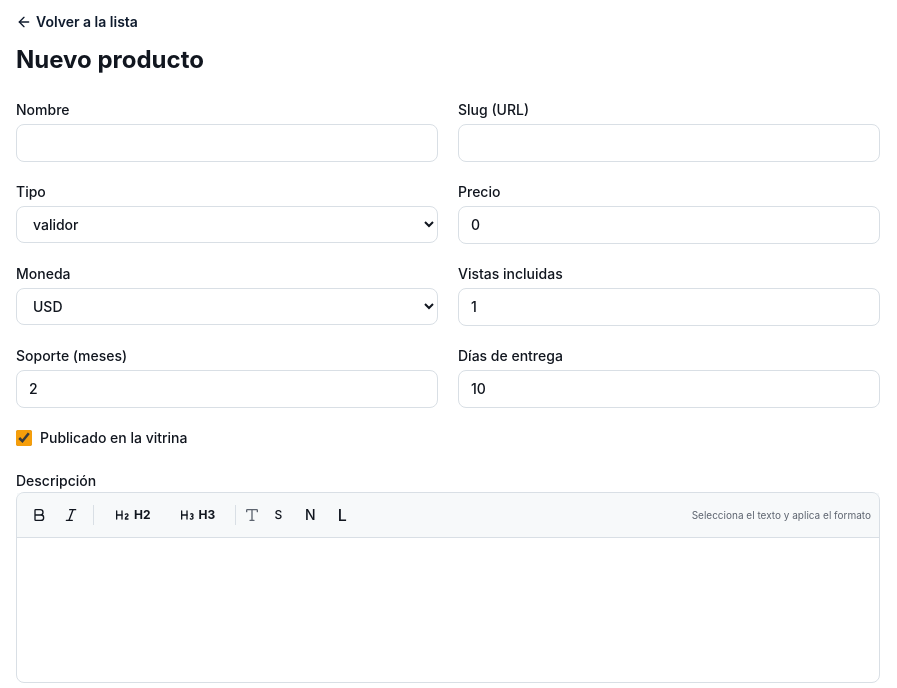
it: Formulario de producto › al crear, el slug se genera desde el nombre al salir del campo
The image size is (897, 688).
Step 1. Type "Mi Paquete increíble" into the field labelled "Nombre" → (227, 143), box [16, 124, 438, 162]
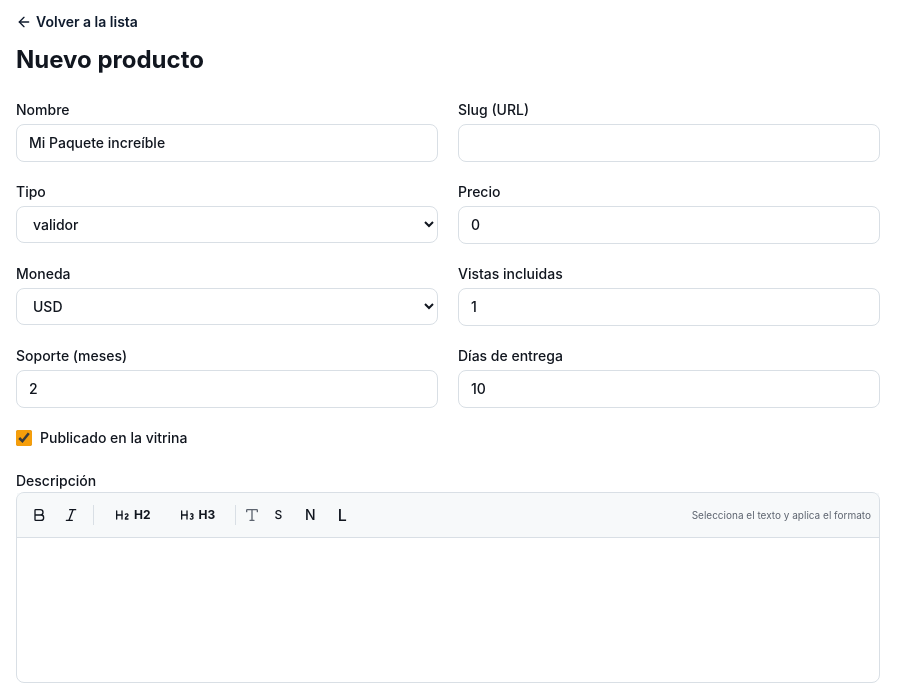
Step 2. Leave the field labelled "Nombre", box [16, 124, 438, 162]
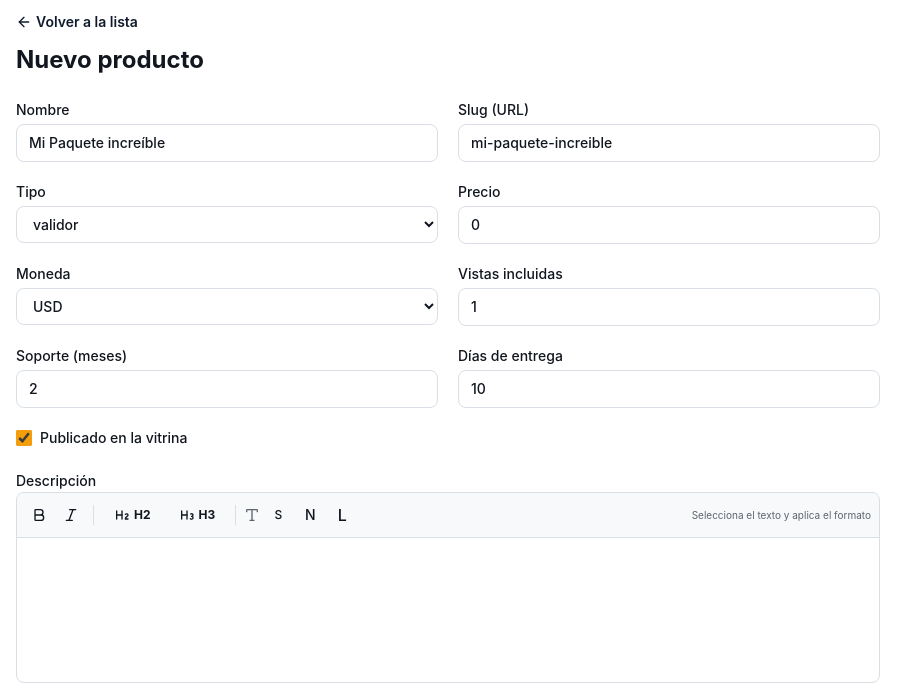
Check: the field labelled "Slug" holds "mi-paquete-increible", box [458, 124, 880, 162]
